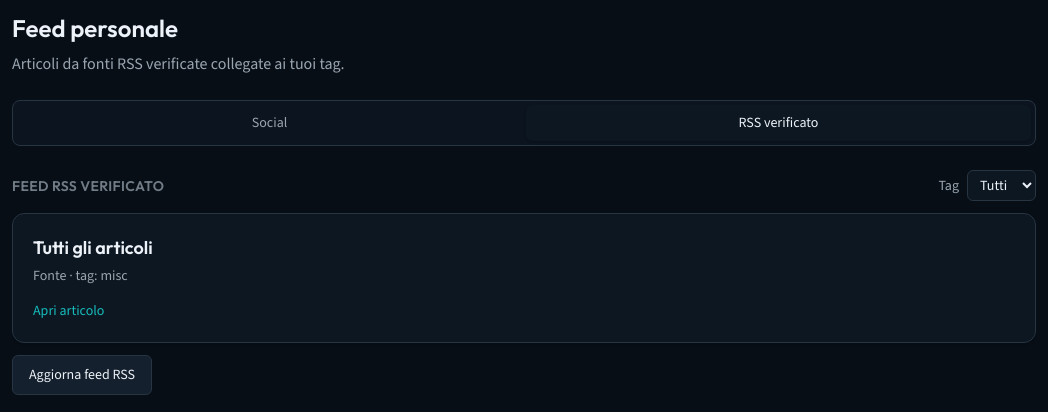
Test: FeedPage › filtro tag RSS richiama getUserRssFeed con il tag selezionato e aggiorna la lista
This screenshot has width=1048, height=412.
Expected: the heading "Tutti gli articoli" is shown, [33,236,153,259]
Select "tech" in the dropdown with id "thematic-tag-filter". click: {"x": 1002, "y": 186}
box: [967,170,1036,201]
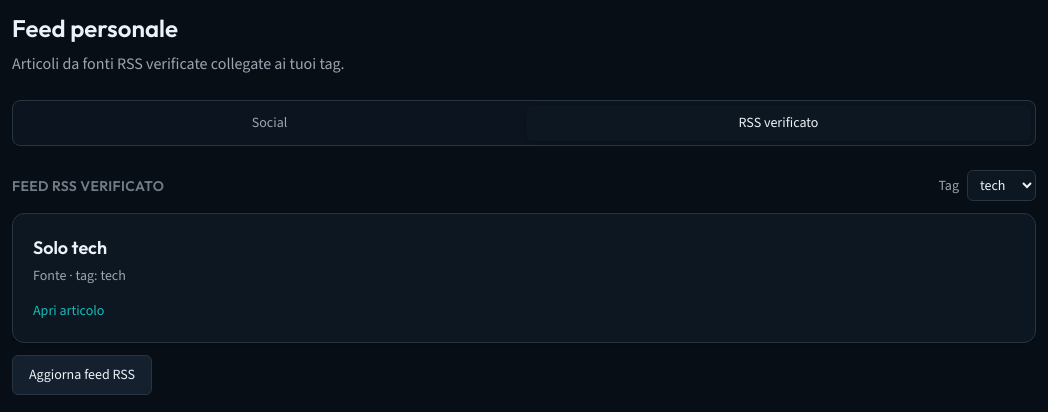
Now the heading "Solo tech" is shown, box [33,236,107,259]
Now the heading "Tutti gli articoli" is gone
